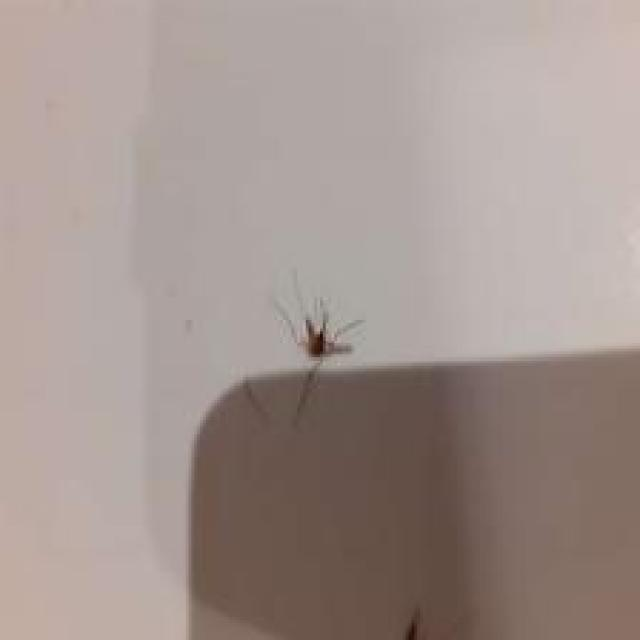Culex: (268, 266, 366, 426)
